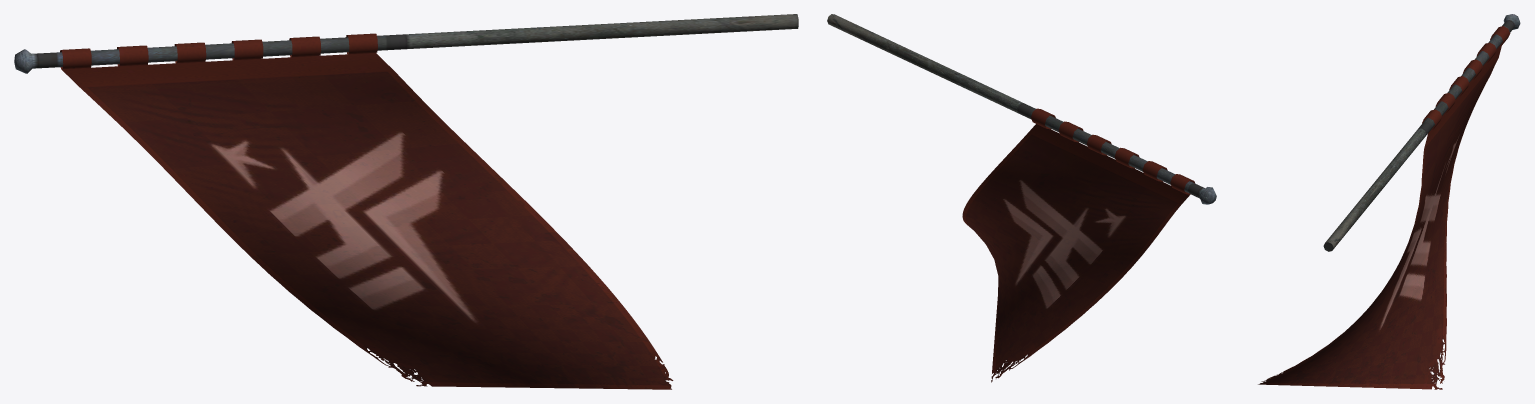
File: mp_flag_axis_1_carry_LOD0.obj
3 renders of one model, left to right at view 1: azimuth 30°, elevation 25°; view 2: azimuth 150°, elevation 25°; view 3: azimuth 270°, elevation 25°, orthographic. The views are drawn at different scales.
Parts seen in each view (by area): view 1: mtl_flag_axis_1, mtl_mp_flag_base; view 2: mtl_flag_axis_1, mtl_mp_flag_base; view 3: mtl_flag_axis_1, mtl_mp_flag_base.
Boxes of the visible parts, <box> form: mtl_flag_axis_1: <box>60,33,673,389</box>; mtl_mp_flag_base: <box>14,14,798,73</box>; mtl_flag_axis_1: <box>962,108,1195,382</box>; mtl_mp_flag_base: <box>827,14,1216,204</box>; mtl_flag_axis_1: <box>1258,26,1510,389</box>; mtl_mp_flag_base: <box>1323,14,1520,251</box>.
Size of the model in its own units: 131 by 74.03 by 69.83.
